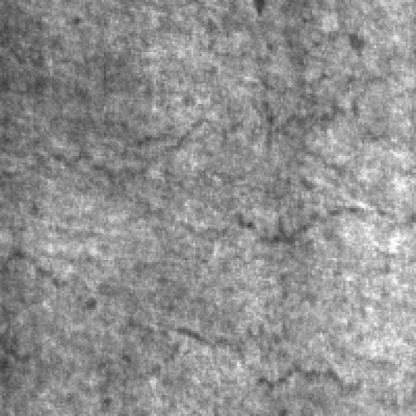crazing: (81, 98, 416, 239), (162, 277, 370, 385)
